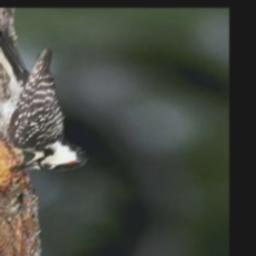Woodpecker: (0, 27, 95, 175)
